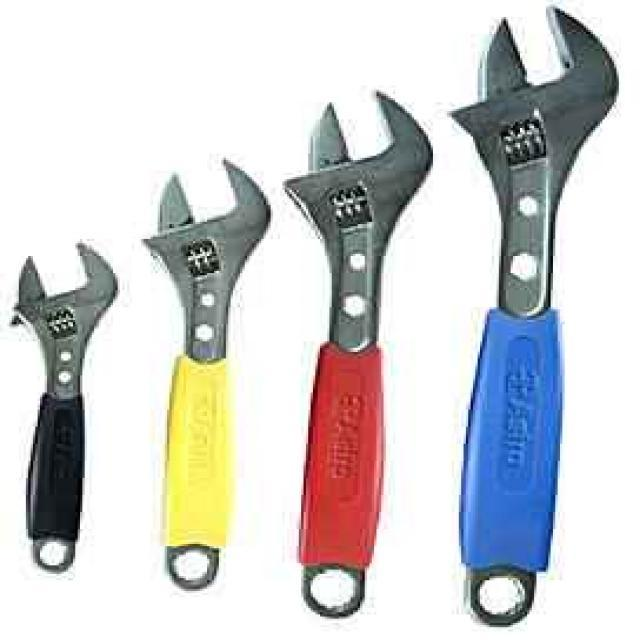wrench: (429, 2, 626, 634), (272, 81, 442, 640), (134, 146, 280, 614), (4, 232, 124, 588)
